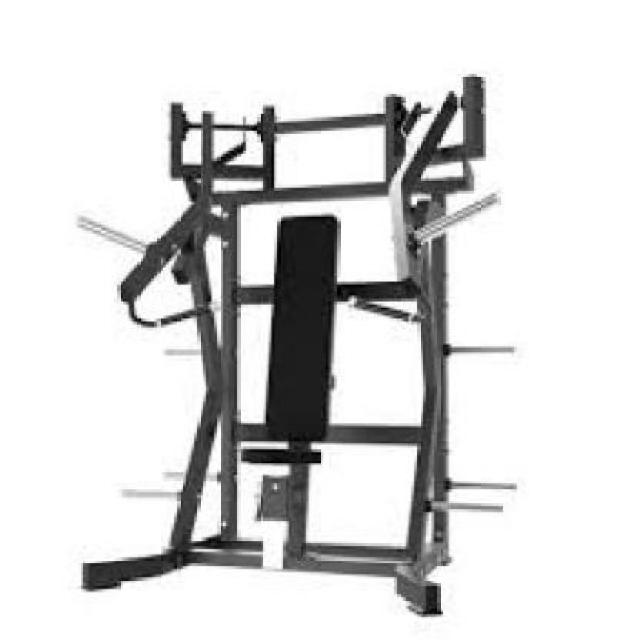Chest Press machine: (68, 74, 530, 626)
